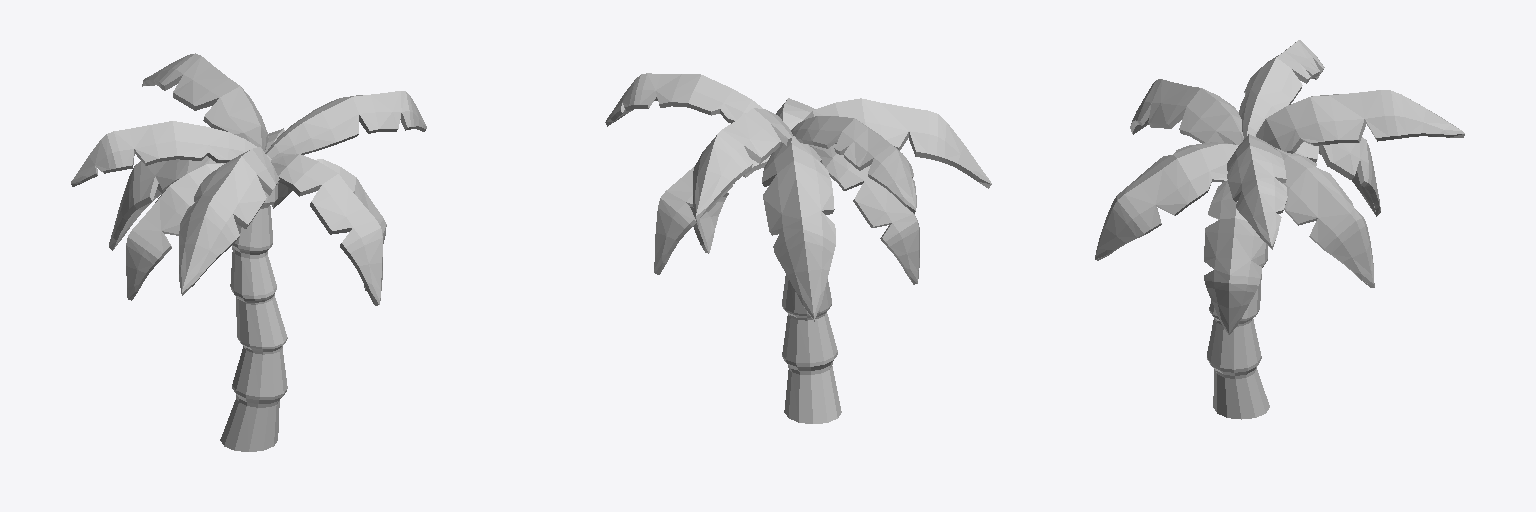
The model's file is tree.obj.
The picture shows the model from 3 angles: view 1: azimuth 30°, elevation 25°; view 2: azimuth 150°, elevation 25°; view 3: azimuth 270°, elevation 25°; orthographic projection.
Visible parts, largest first — view 1: Environment_PalmTree_3; view 2: Environment_PalmTree_3; view 3: Environment_PalmTree_3.
Boxes of the visible parts, x1=… form: Environment_PalmTree_3: x1=71, y1=53, x2=426, y2=451; Environment_PalmTree_3: x1=605, y1=73, x2=991, y2=423; Environment_PalmTree_3: x1=1095, y1=40, x2=1464, y2=419.
Bounding box in the file's own units: 2.86 × 2.69 × 2.75.